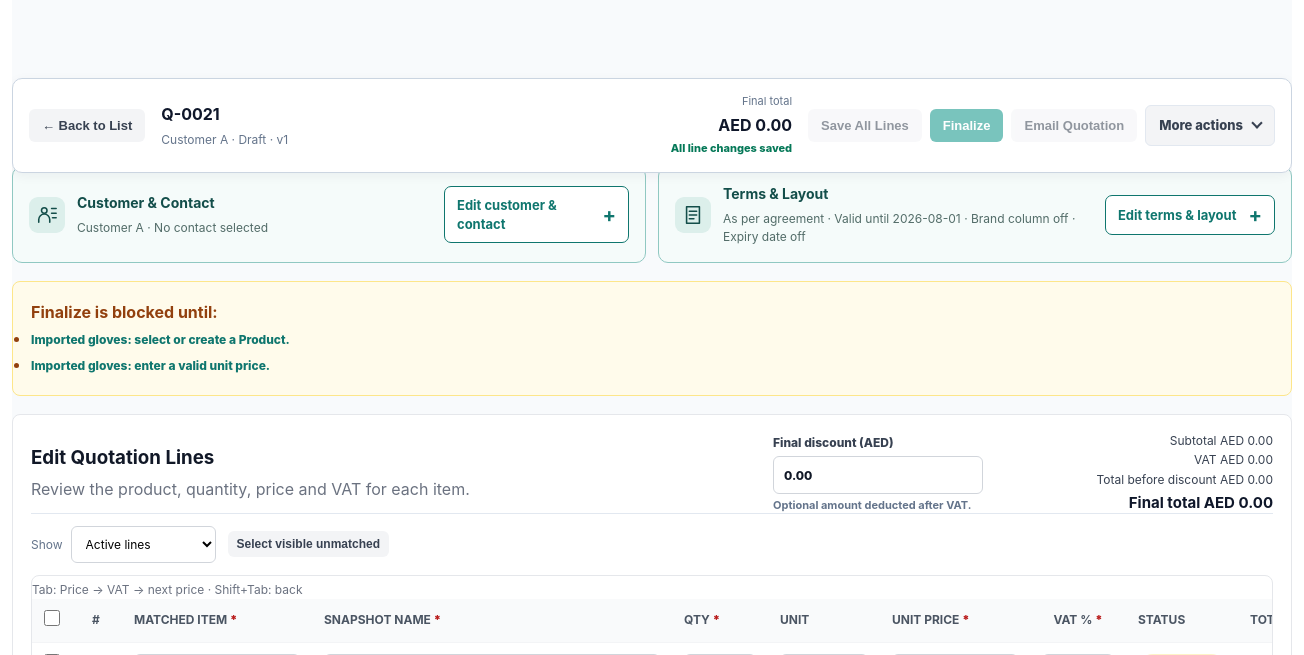
Test: QuotationEditor Product price context › keeps the optional Brand column off by default
Click the button that starts with "Terms & Layout" at (975, 215), box [658,166,1292,263]
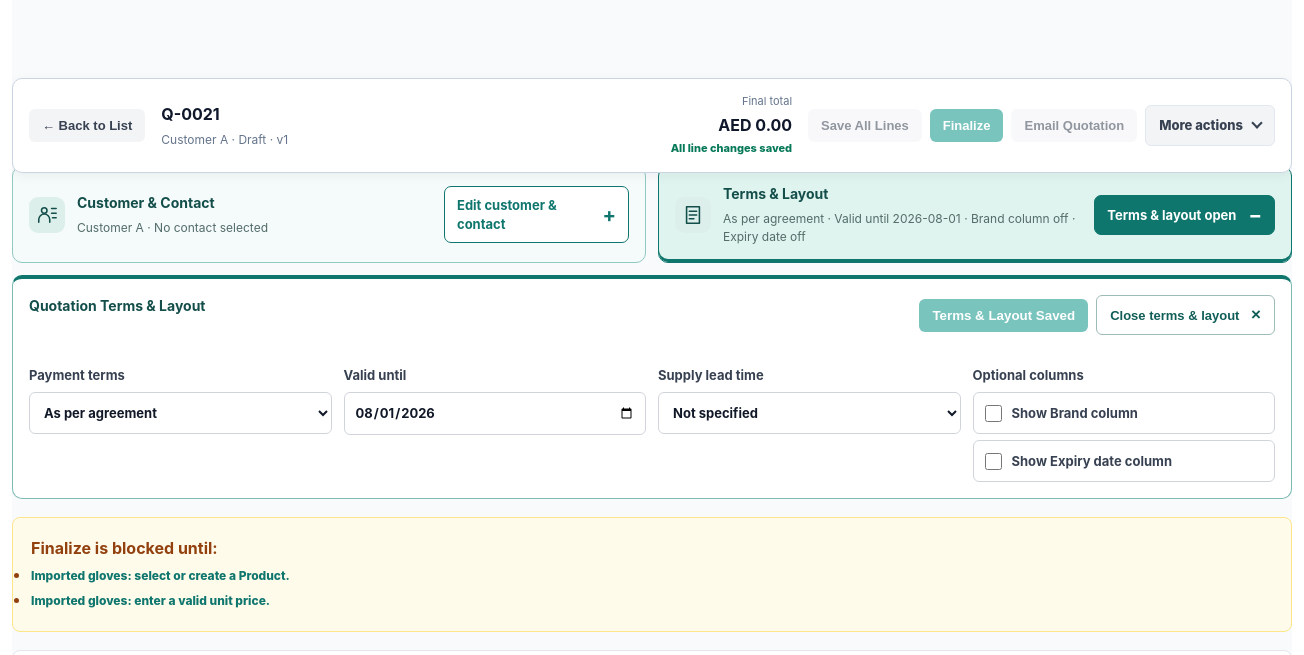
expect the checkbox labelled "Show Brand column" is not checked: met, box [984,405,1002,422]
expect the element that starts with "Quotation Terms & Layout" is shown: met, box [29,295,1275,335]
expect the element that starts with "Payment terms" is shown: met, box [29,365,1275,482]
